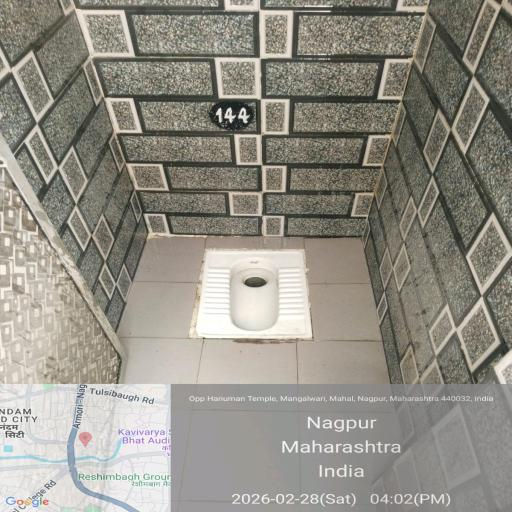clean_floor: (124, 219, 405, 500), (102, 18, 432, 186)
clean_indian: (209, 254, 314, 343)
